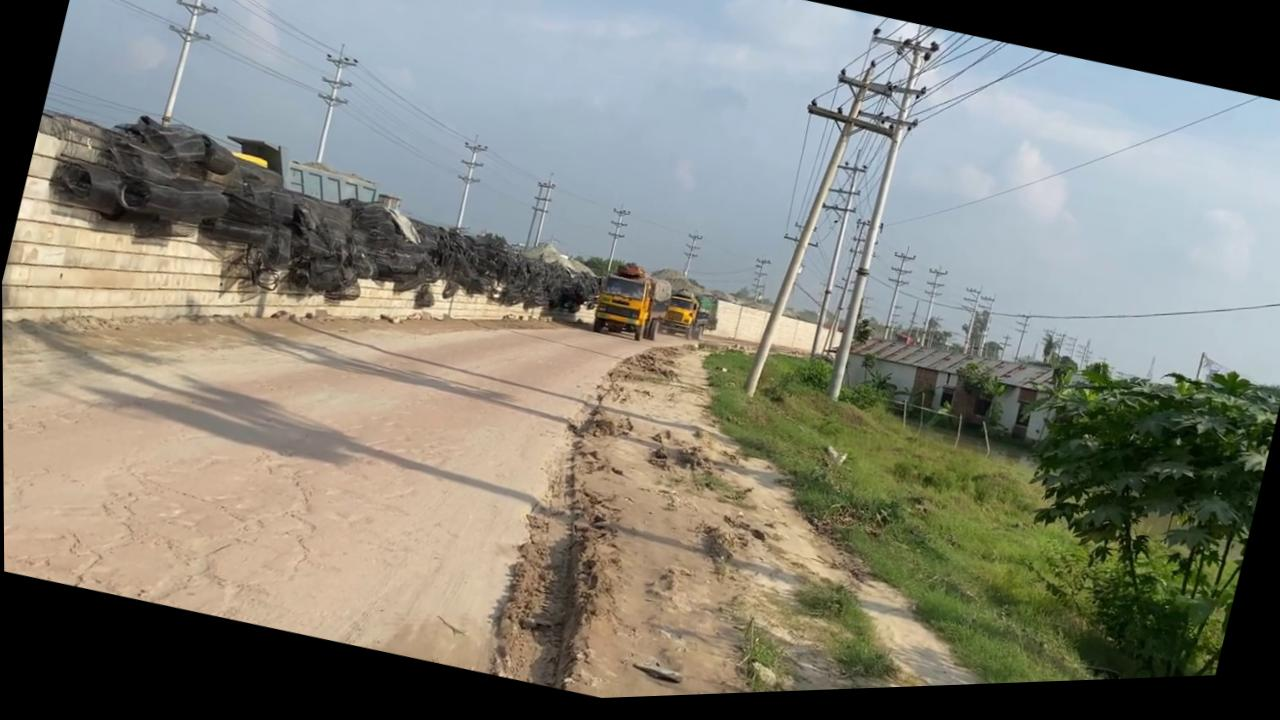Pole: (738, 55, 877, 414), (814, 31, 943, 412), (144, 0, 232, 132), (299, 41, 362, 169)
Pothole: (628, 661, 684, 693)
Rickshaw: (490, 300, 1147, 706)
Traffic-sign: (962, 328, 1280, 692)
Tree: (216, 129, 390, 220), (586, 259, 678, 352), (658, 287, 723, 351), (637, 280, 676, 348)
Upstairs: (23, 79, 619, 379)
